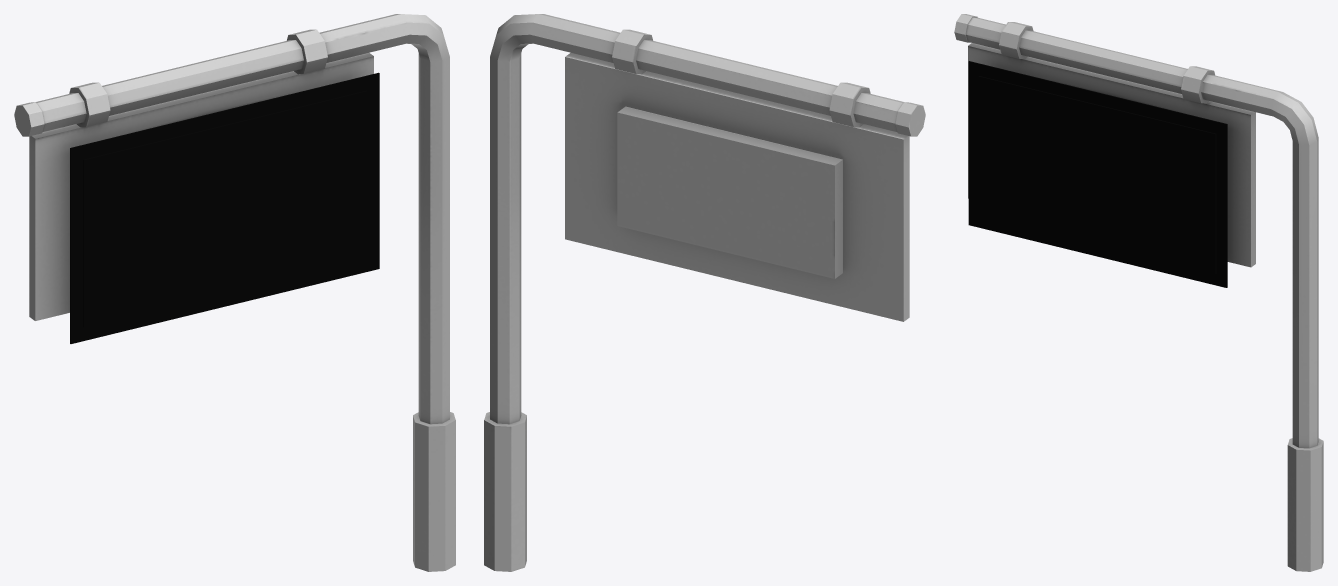
The model's file is UTC_320sar.fbx.
3 views of the same model, side by side, from view 1: azimuth 30°, elevation 25°; view 2: azimuth 150°, elevation 25°; view 3: azimuth 330°, elevation 25° (orthographic). The views are drawn at different scales.
Visible parts, largest first — view 1: C, E, D, A; view 2: D, E; view 3: C, E, A, D.
Boxes of the visible parts, x1,y1,x2,y2 form: C: (83, 90, 367, 327); E: (14, 14, 455, 571); D: (29, 53, 373, 320); A: (70, 72, 379, 343); D: (565, 53, 909, 321); E: (484, 14, 925, 571); C: (978, 76, 1216, 273); E: (954, 14, 1323, 571); A: (968, 61, 1227, 287); D: (968, 43, 1255, 267).
Bounding box in the file's own units: 72.58 × 90.45 × 9.37.
Materials: 1 (1 with a texture image).
